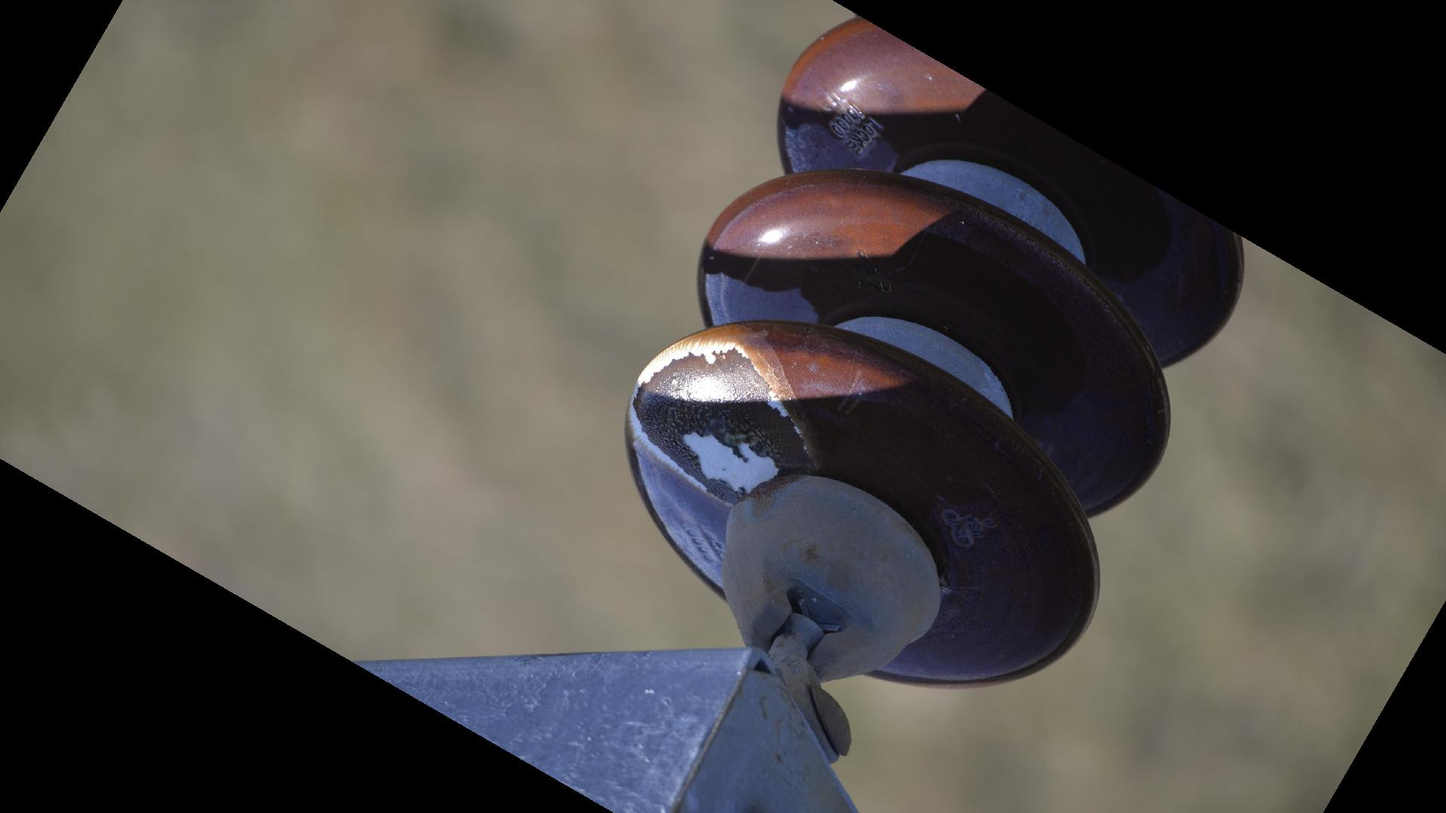insulator: (618, 1, 1253, 700)
insulator_flashover: (626, 321, 819, 507)
